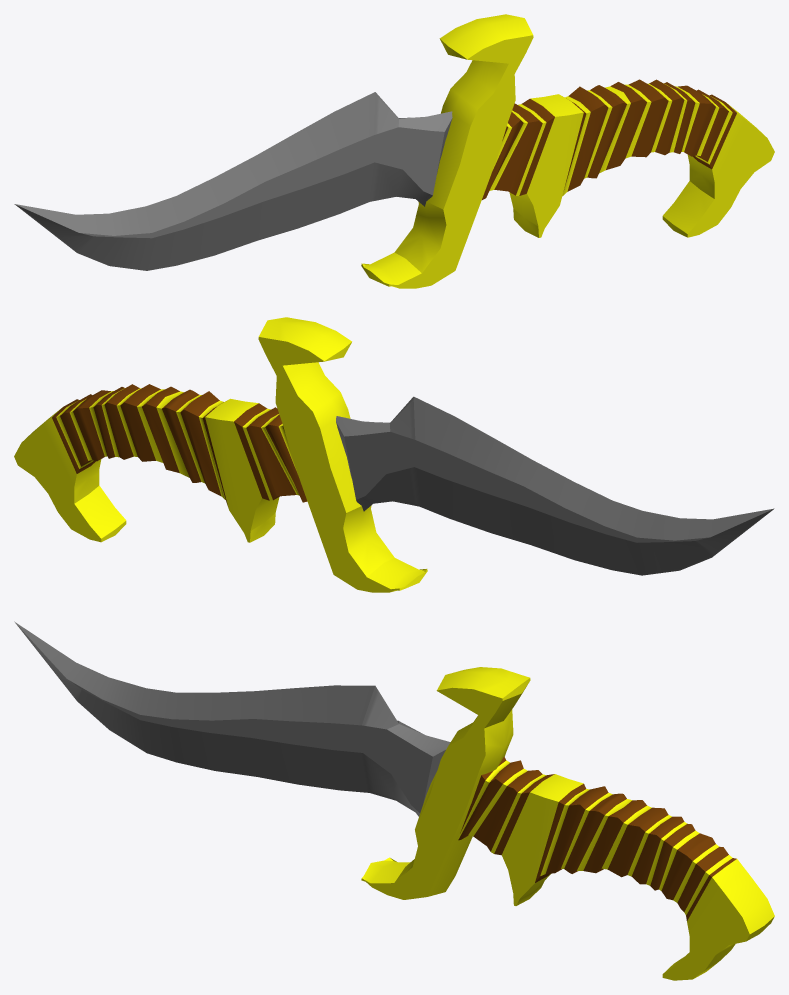
Rendered from knife.obj.
The picture shows the model from 3 angles, top to bottom: view 1: azimuth 30°, elevation 25°; view 2: azimuth 150°, elevation 25°; view 3: azimuth 330°, elevation 25°; orthographic projection.
Visible parts, largest first — view 1: polySurface6; view 2: polySurface6; view 3: polySurface6.
Part boxes in pixels (box(x1,y1,x2,y2)): polySurface6: box(14, 14, 774, 288); polySurface6: box(14, 317, 774, 592); polySurface6: box(14, 621, 774, 980).
Bounding box in the file's own units: 5.52 × 1.78 × 0.3734.
